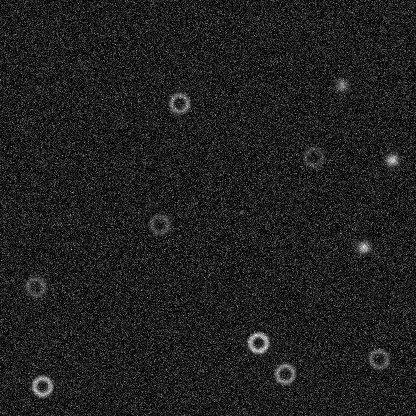Ring: (301, 145, 325, 169), (23, 274, 47, 298), (147, 212, 171, 236), (167, 90, 191, 114), (366, 346, 390, 370), (30, 374, 54, 398), (272, 361, 296, 385), (246, 330, 270, 354)
Spot: (355, 239, 371, 255), (333, 77, 349, 93), (383, 151, 399, 167)
